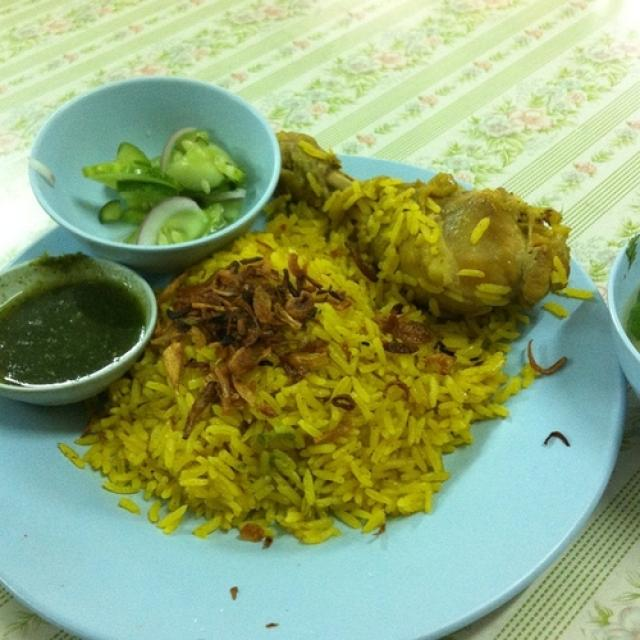米饭主食: (27, 52, 599, 610)
